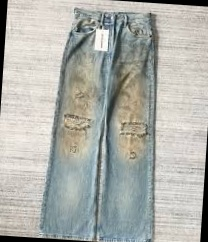earth: (113, 63, 150, 160), (65, 63, 96, 155)
